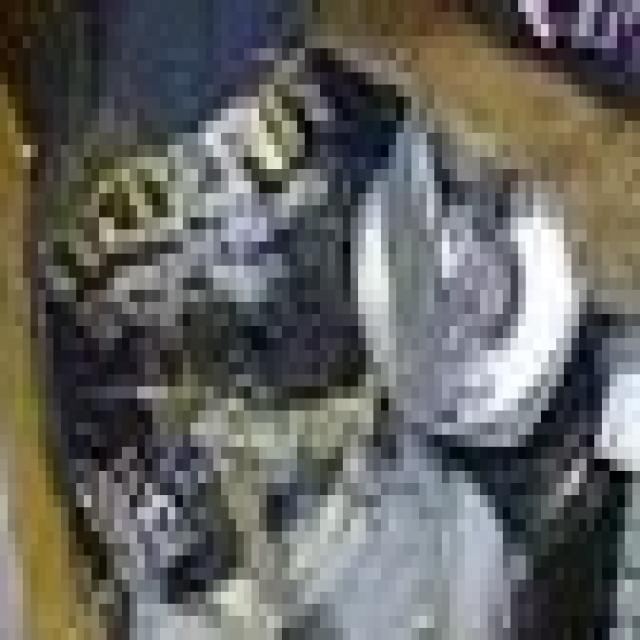can: (23, 0, 609, 640)
